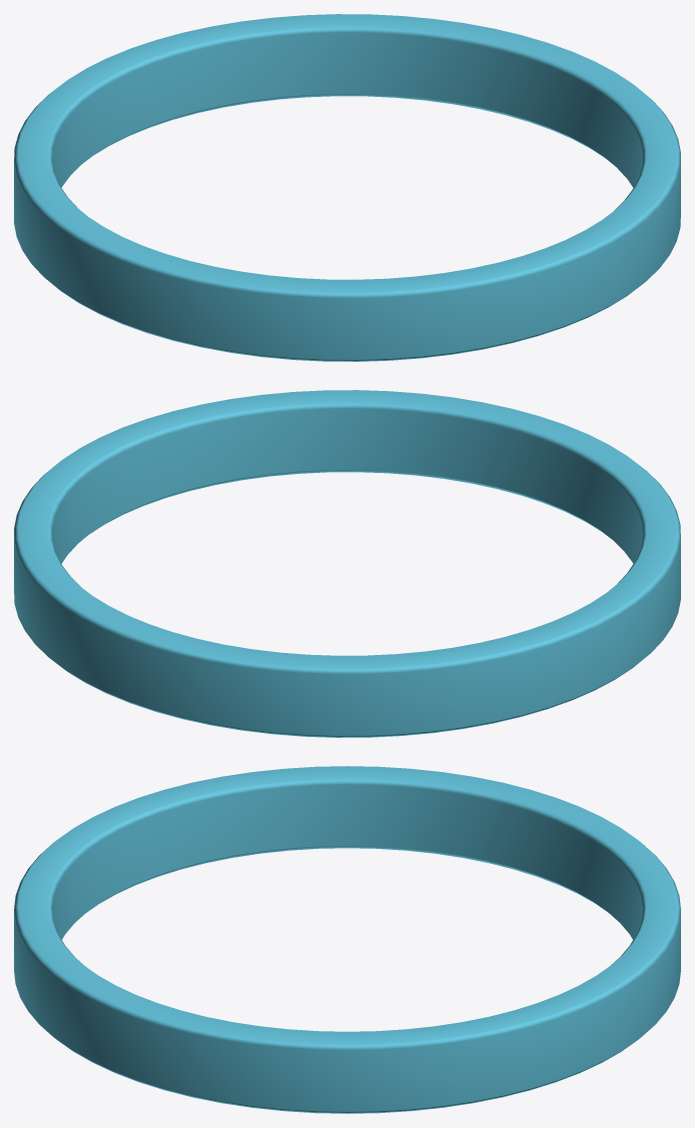
The picture shows the model from 3 angles, top to bottom: view 1: azimuth 30°, elevation 25°; view 2: azimuth 150°, elevation 25°; view 3: azimuth 270°, elevation 25°; orthographic projection.
Visible parts, largest first — view 1: seal_body; view 2: seal_body; view 3: seal_body.
Boxes of the visible parts, x1,y1,x2,y2 form: seal_body: [14, 14, 680, 361]; seal_body: [14, 390, 680, 737]; seal_body: [14, 766, 680, 1113].
Bounding box in the file's own units: 0.0825 × 0.00952 × 0.0825.
